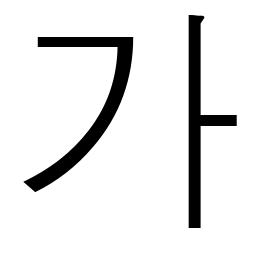Gaji: (167, 100, 222, 146)
